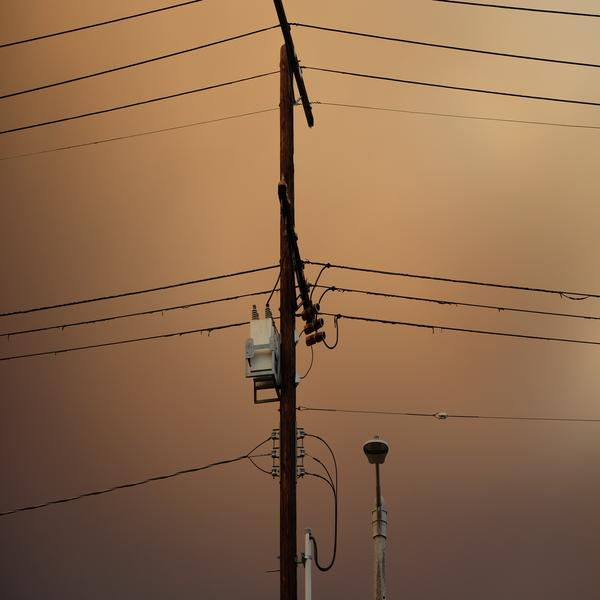utility_pole: (231, 3, 346, 416)
